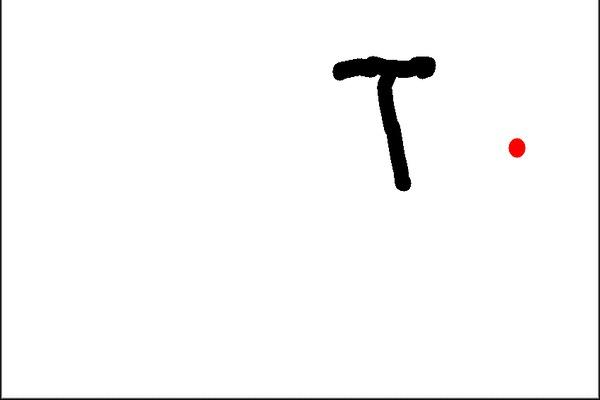T: (321, 46, 459, 200)
